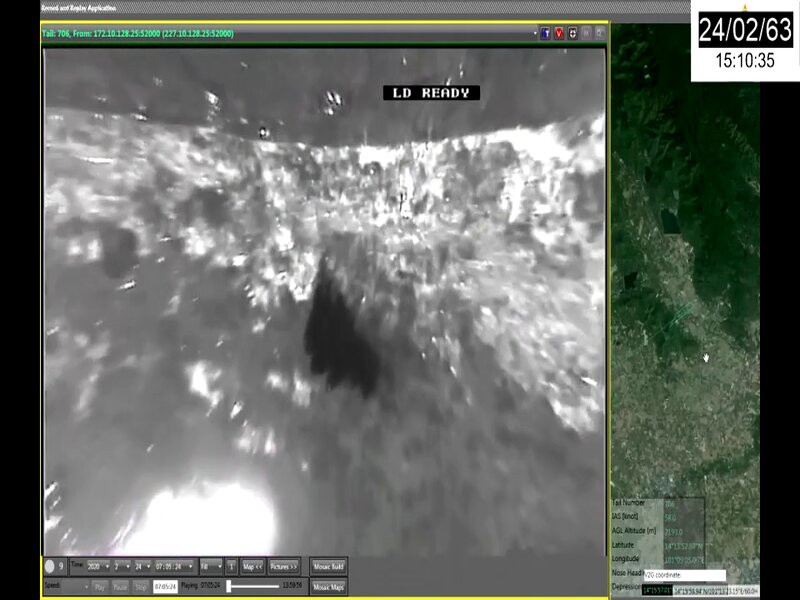Fire: (104, 479, 277, 555)
